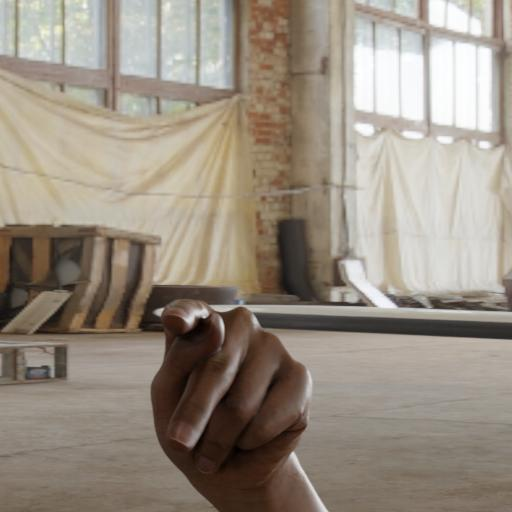P: (134, 268, 326, 494)
